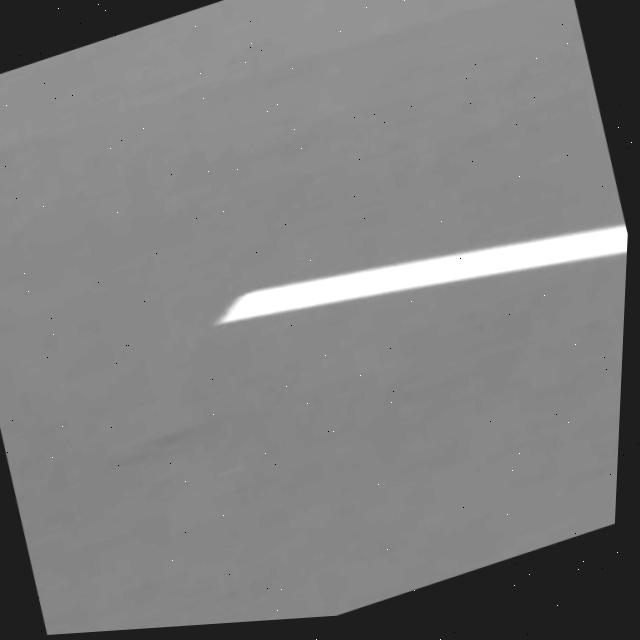center: (214, 223, 628, 324)
